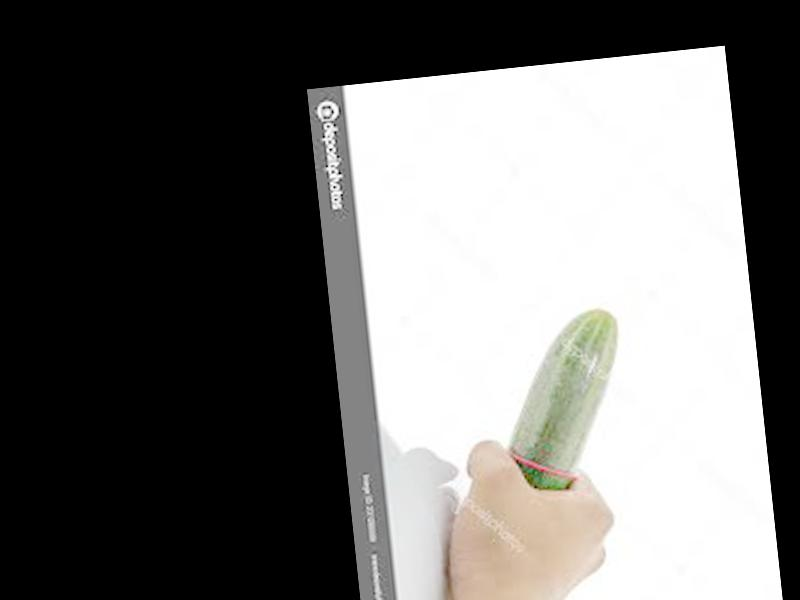Cucumber: (496, 307, 633, 495)
